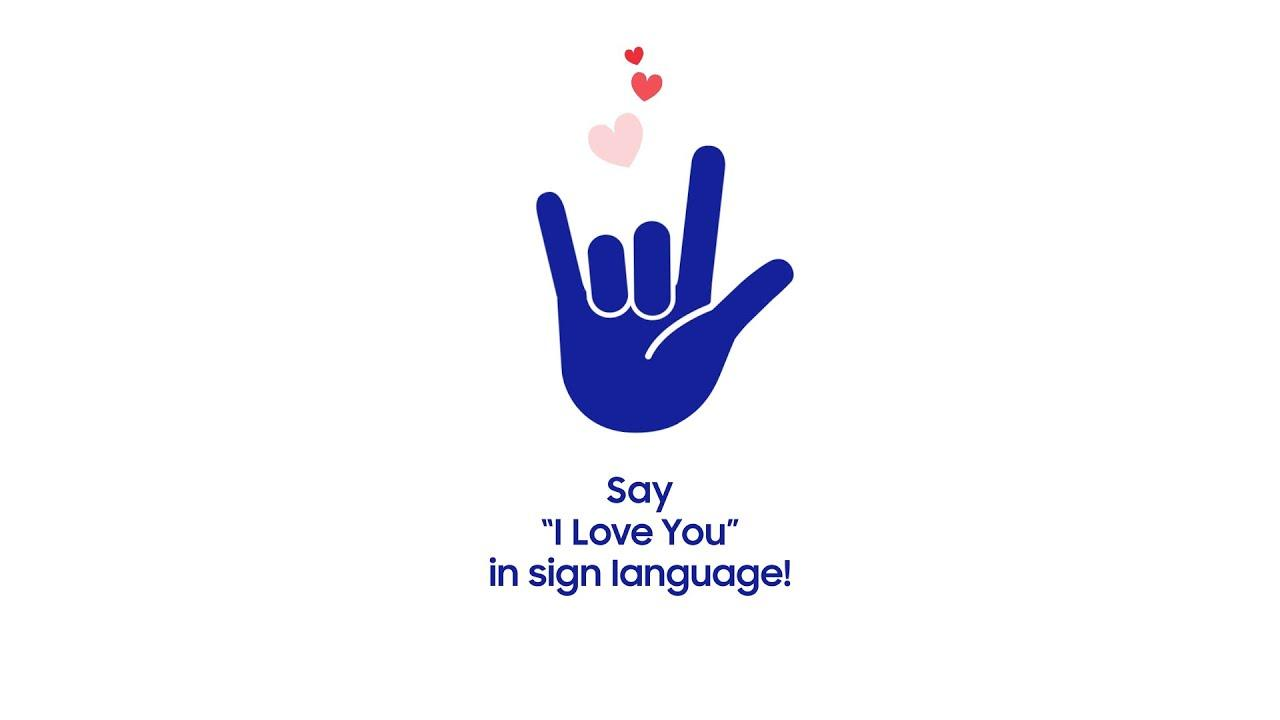Love_you: (522, 140, 803, 456)
